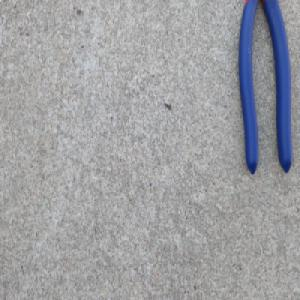Pliers: (237, 0, 294, 177)
